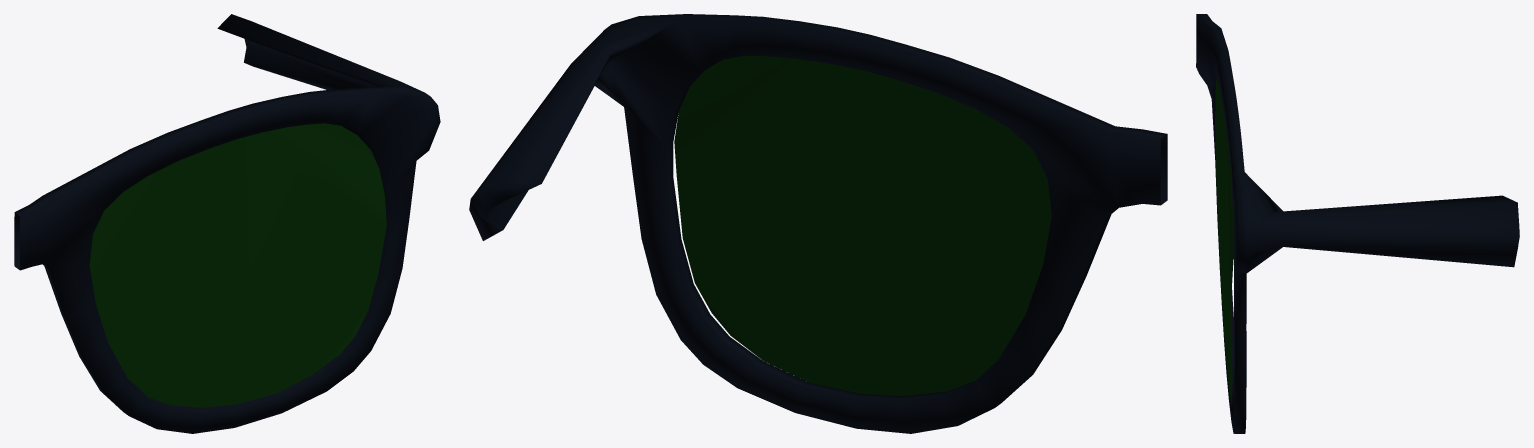
File: try_on_eyeglass.gltf
The picture shows the model from 3 angles, left to right: view 1: azimuth 30°, elevation 25°; view 2: azimuth 150°, elevation 25°; view 3: azimuth 270°, elevation 25°; orthographic projection. The views are drawn at different scales.
Visible parts, largest first — view 1: vere, Circle; view 2: vere, Circle; view 3: Circle, vere.
Boxes of the visible parts, x1,y1,x2,y2 form: vere: (89, 123, 386, 407); Circle: (14, 14, 440, 433); vere: (674, 55, 1051, 395); Circle: (469, 14, 1167, 433); Circle: (1196, 14, 1519, 433); vere: (1215, 79, 1233, 405).
Size of the model in its own units: 9.27 by 6.34 by 6.
